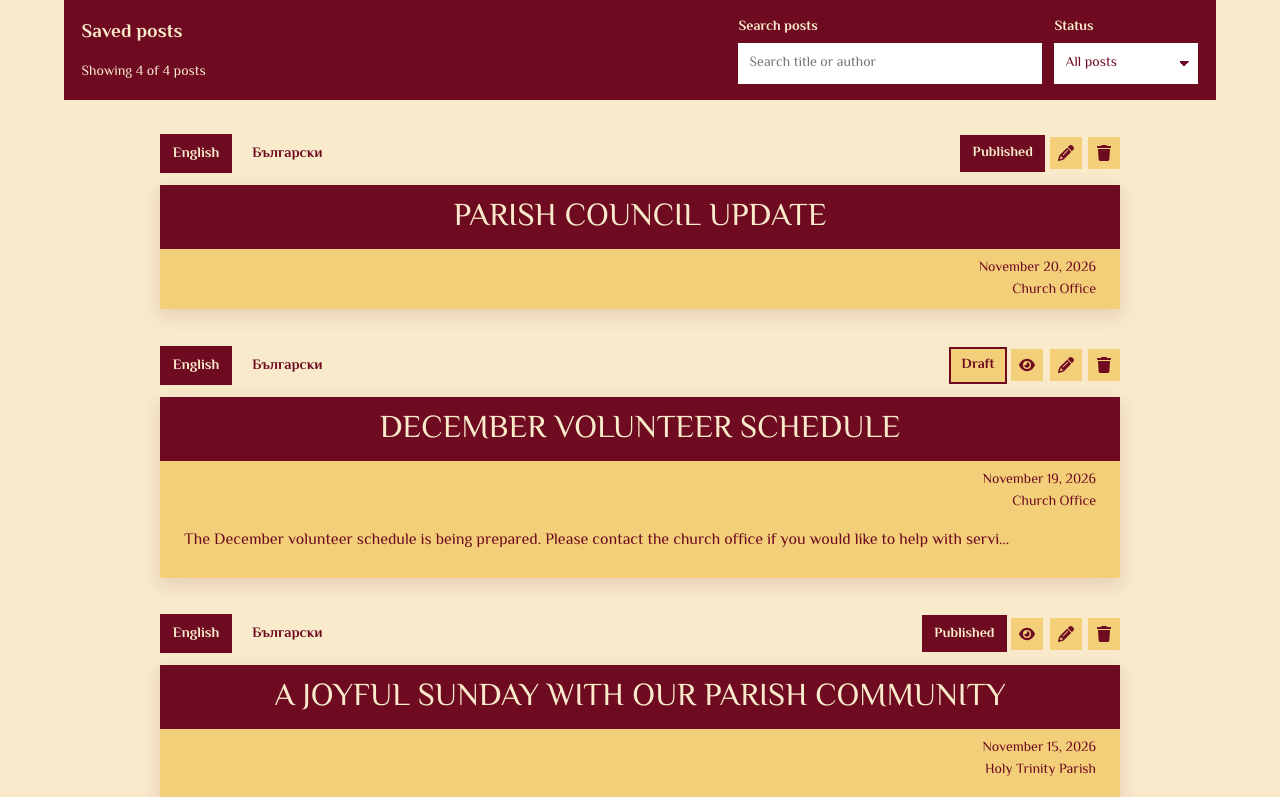
Scenario: CommunityNewsList › filters posts by status and search text
The image size is (1280, 797).
Select "Drafts" in the dropdown labelled "Status" at coordinates (1126, 63), box top-left (1054, 43), bottom-right (1198, 84)
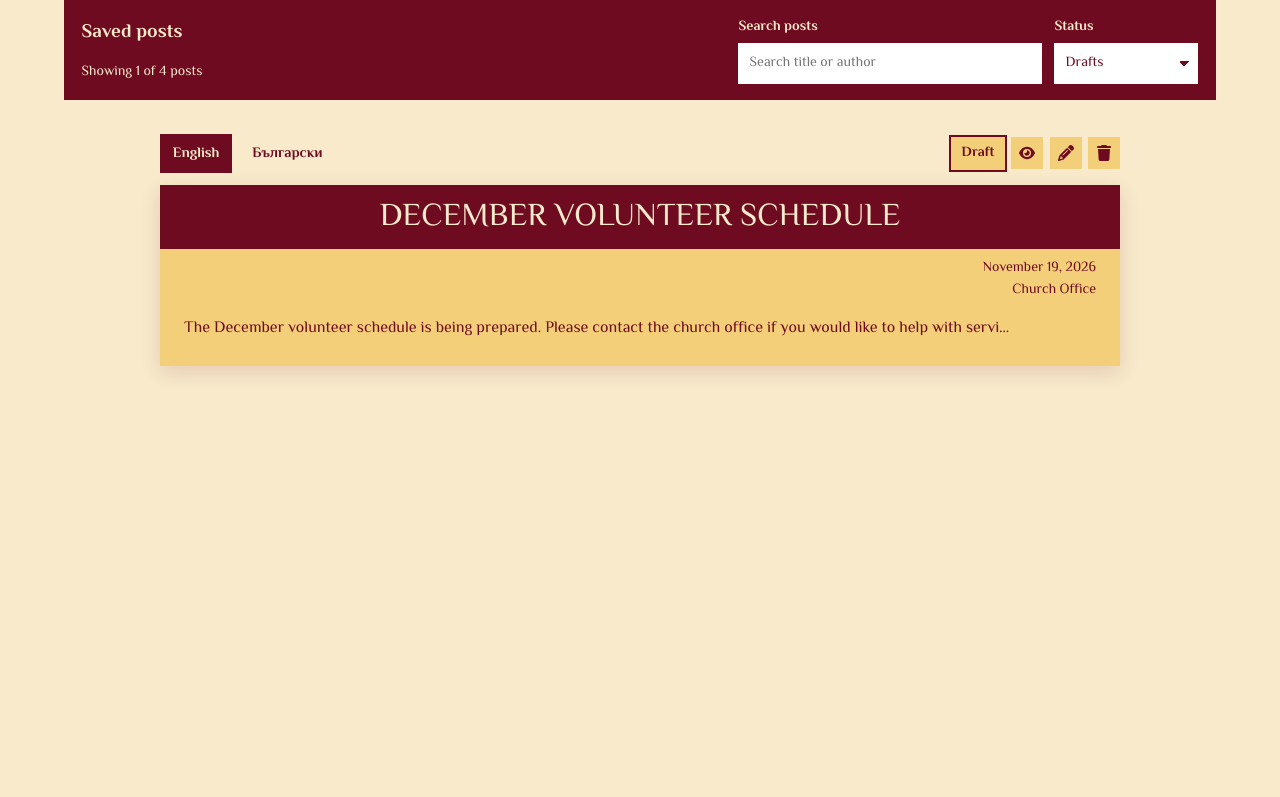
Expected: the heading "December volunteer schedule" is shown, top-left (160, 185), bottom-right (1120, 249)
Expected: the heading "Parish council update" is gone
Select "All posts" in the dropdown labelled "Status" at coordinates (1126, 63), box top-left (1054, 43), bottom-right (1198, 84)
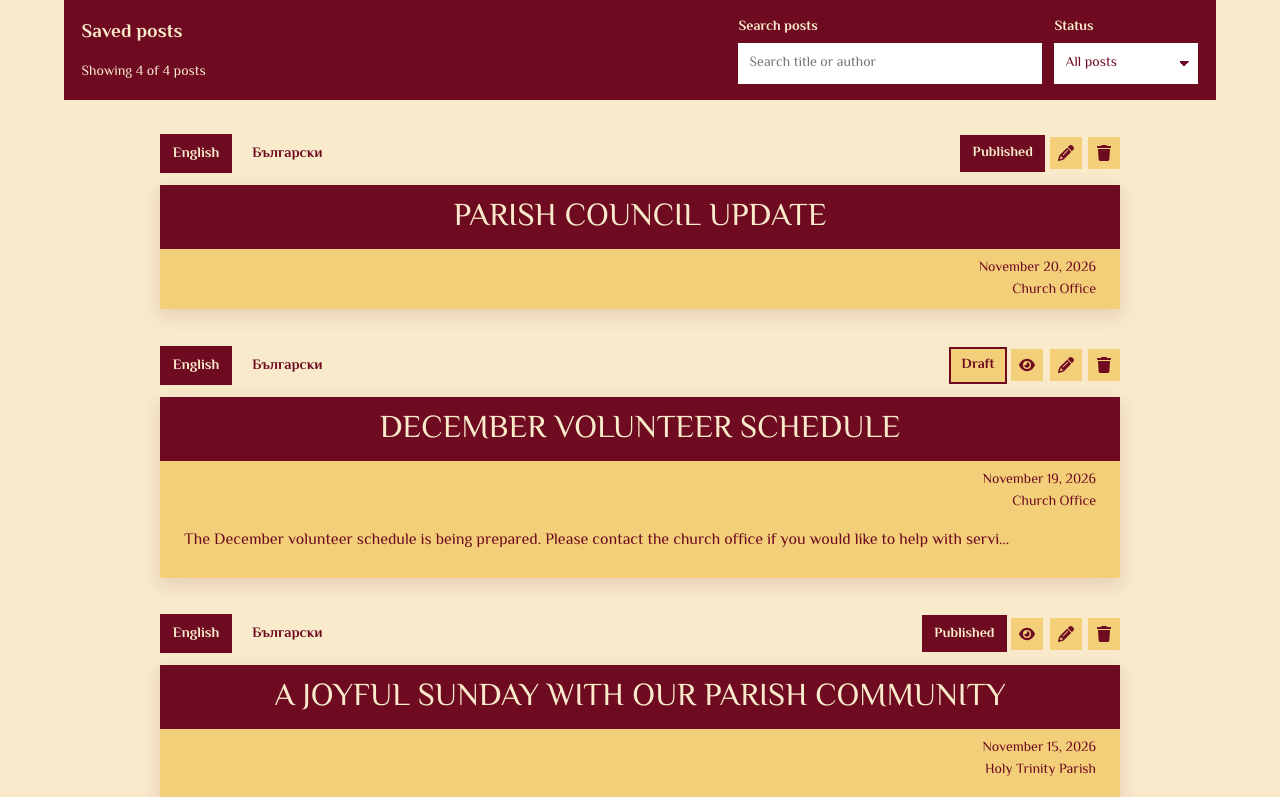
Type "joyful Sunday" into the search field labelled "Search posts" at coordinates (890, 63), box top-left (738, 43), bottom-right (1042, 84)
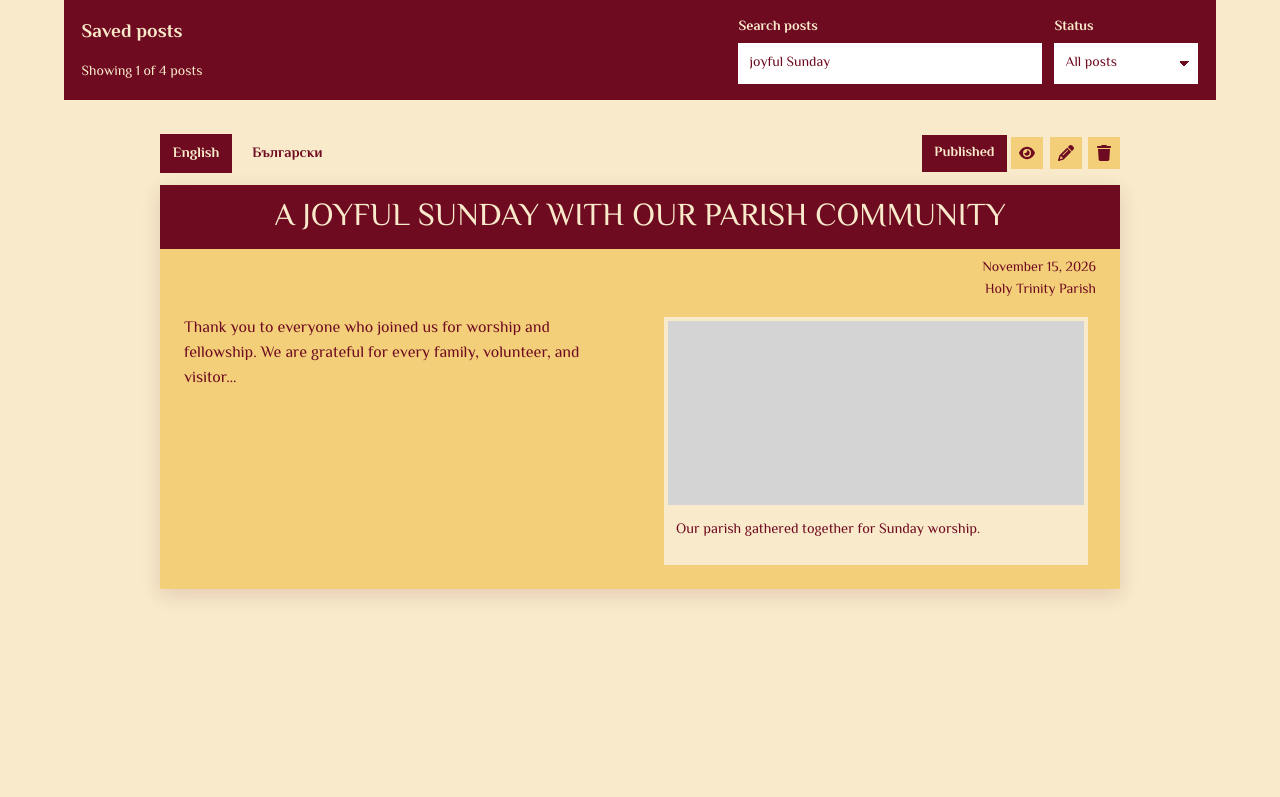
Expected: the heading "A joyful Sunday with our parish community" is shown, top-left (160, 185), bottom-right (1120, 249)
Expected: the text "Showing 1 of 4 posts" is shown, top-left (82, 61), bottom-right (202, 83)
